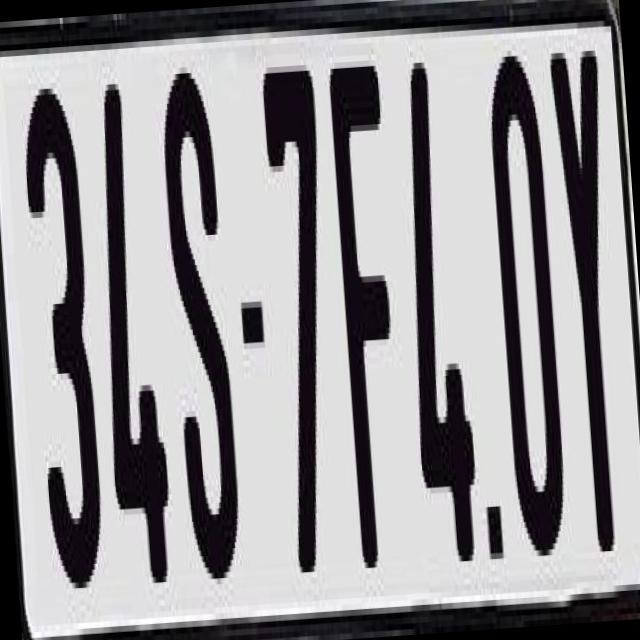0: (481, 49, 569, 556)
3: (17, 68, 112, 608)
4: (393, 53, 490, 592), (84, 76, 172, 584)
7: (261, 70, 355, 578)
F: (326, 48, 412, 586)
S: (155, 54, 242, 592)
Y: (548, 44, 634, 582)
